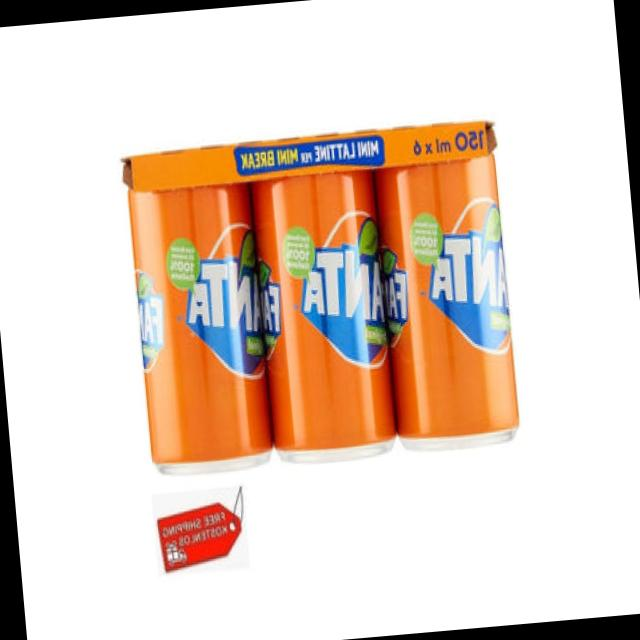fanta: (126, 172, 282, 493), (377, 135, 526, 459), (246, 154, 398, 466)
